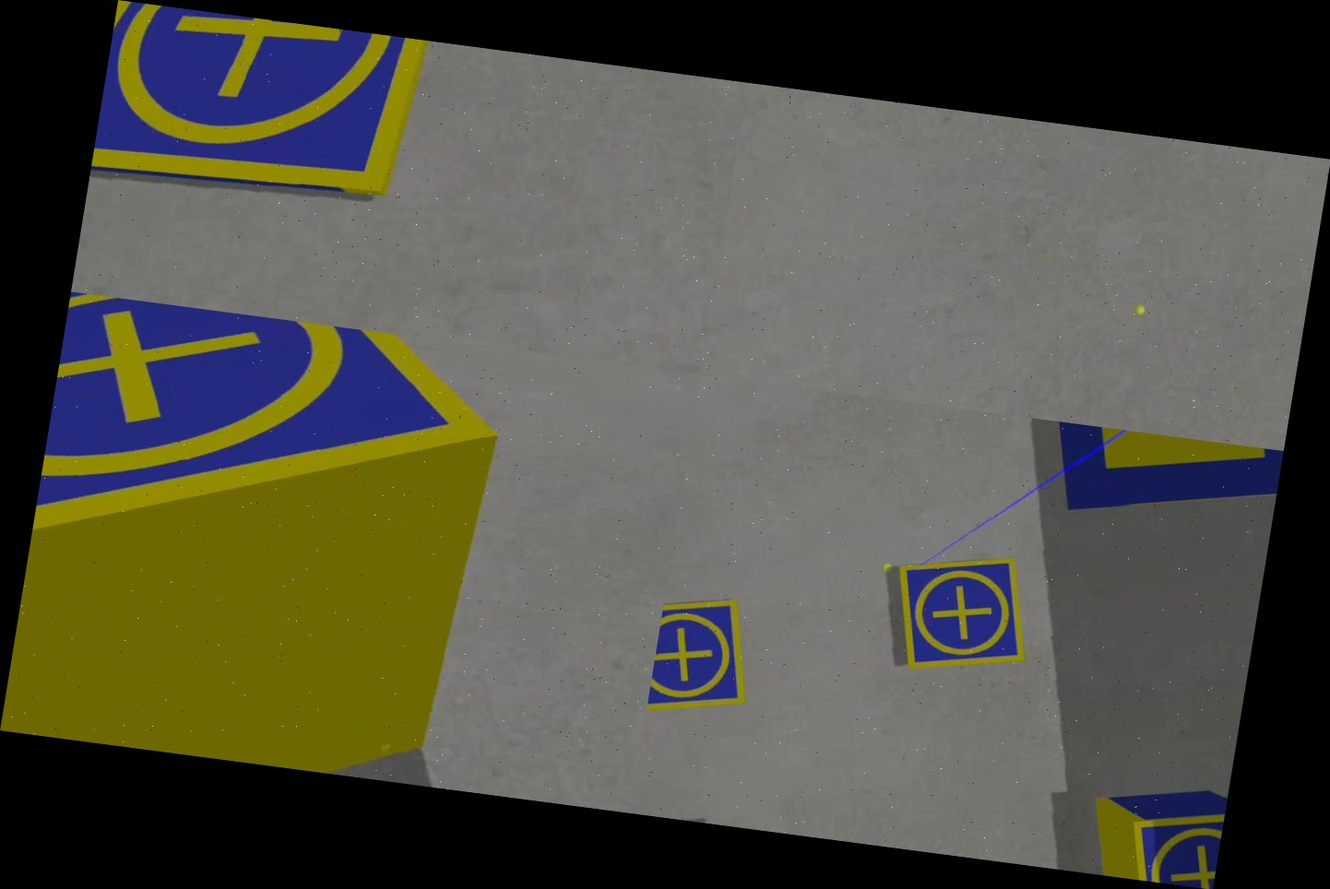large_base: (1017, 418, 1283, 538)
small_base: (18, 291, 535, 678), (79, 0, 510, 289), (878, 539, 1043, 687), (645, 588, 766, 730), (1121, 790, 1226, 889)
